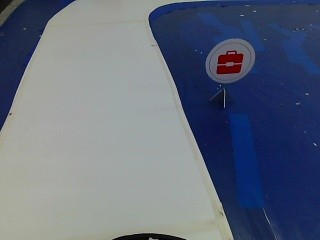company: (207, 39, 251, 83)
